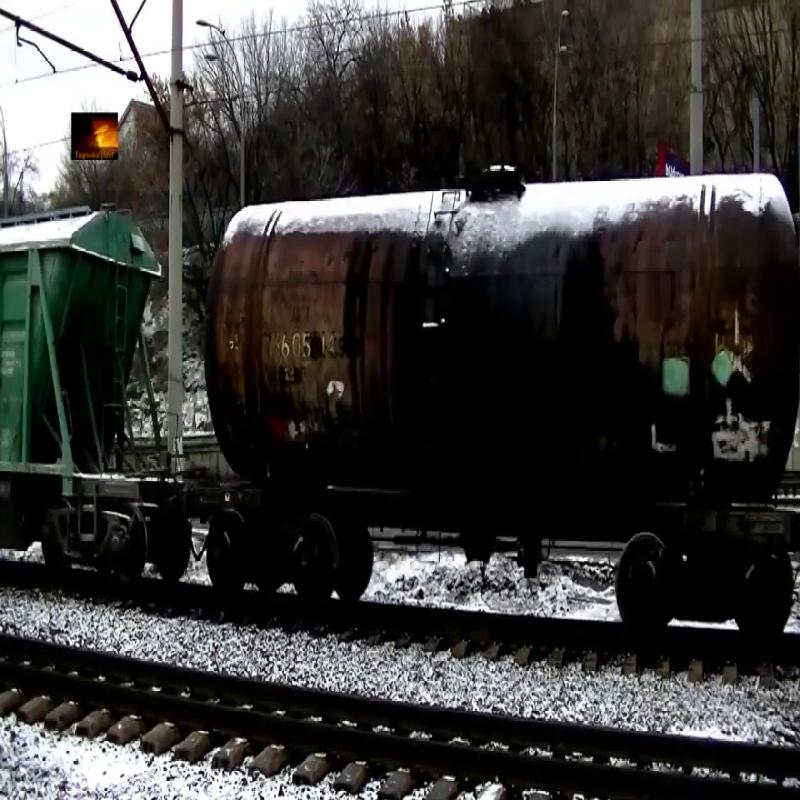train: (201, 150, 800, 552), (1, 196, 169, 535)
